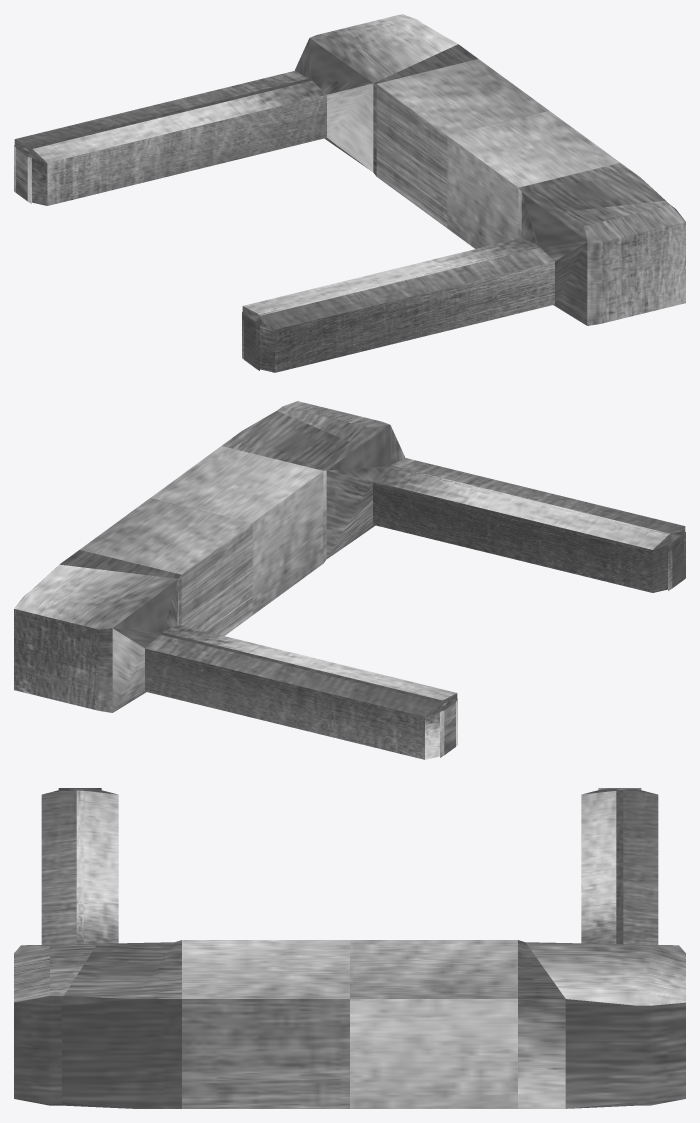
Rendered from doorknob.gltf.
The picture shows the model from 3 angles, top to bottom: view 1: azimuth 30°, elevation 25°; view 2: azimuth 150°, elevation 25°; view 3: azimuth 270°, elevation 25°; orthographic projection. The views are drawn at different scales.
Visible parts, largest first — view 1: Cube; view 2: Cube; view 3: Cube.
Part boxes in pixels (x1=…): Cube: x1=14, y1=14, x2=685, y2=372; Cube: x1=14, y1=401, x2=685, y2=759; Cube: x1=14, y1=788, x2=685, y2=1108.
Bounding box in the file's own units: 9.1 × 1.95 × 10.81.
1 material, 1 textured.
